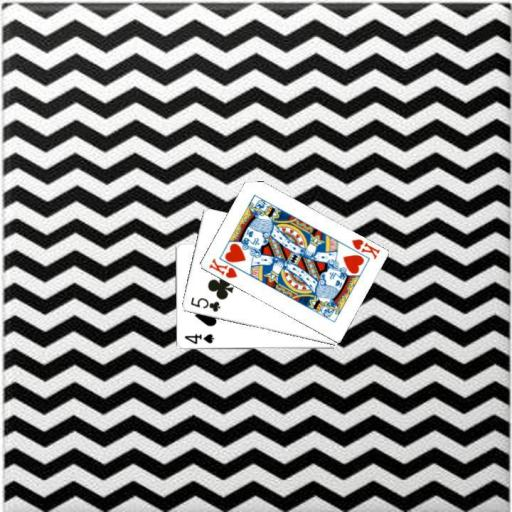4S: (181, 331, 215, 346)
5C: (187, 295, 221, 314)
KH: (206, 255, 238, 280), (349, 236, 381, 261)
